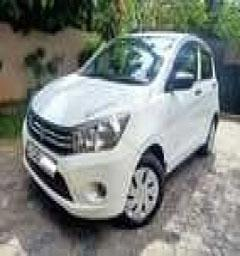car: (12, 18, 228, 240)
